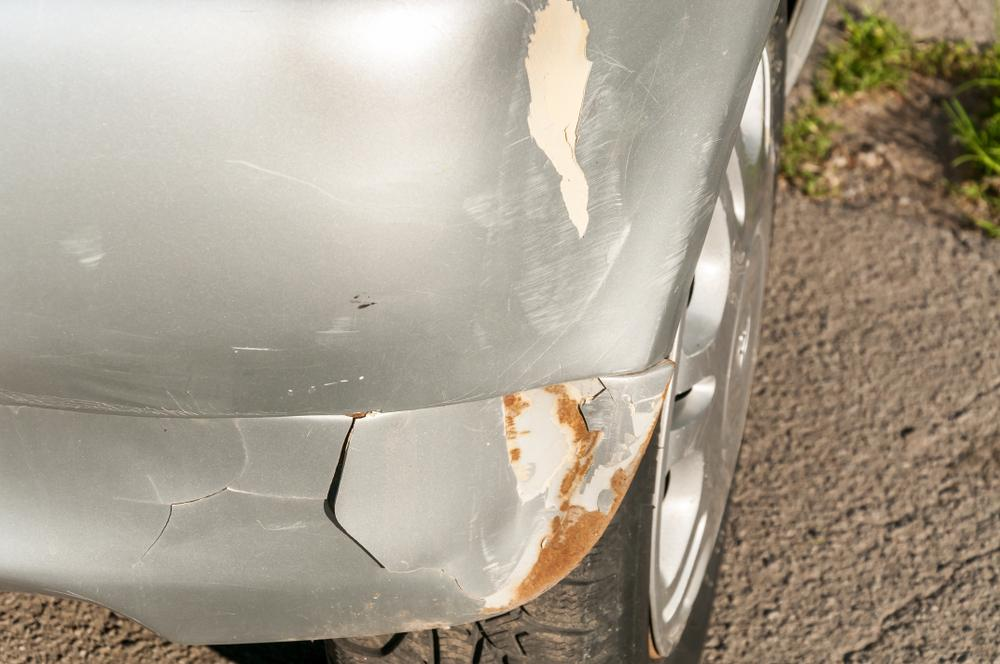crack: (139, 417, 467, 593)
scratch: (462, 0, 646, 341), (467, 379, 671, 614)
